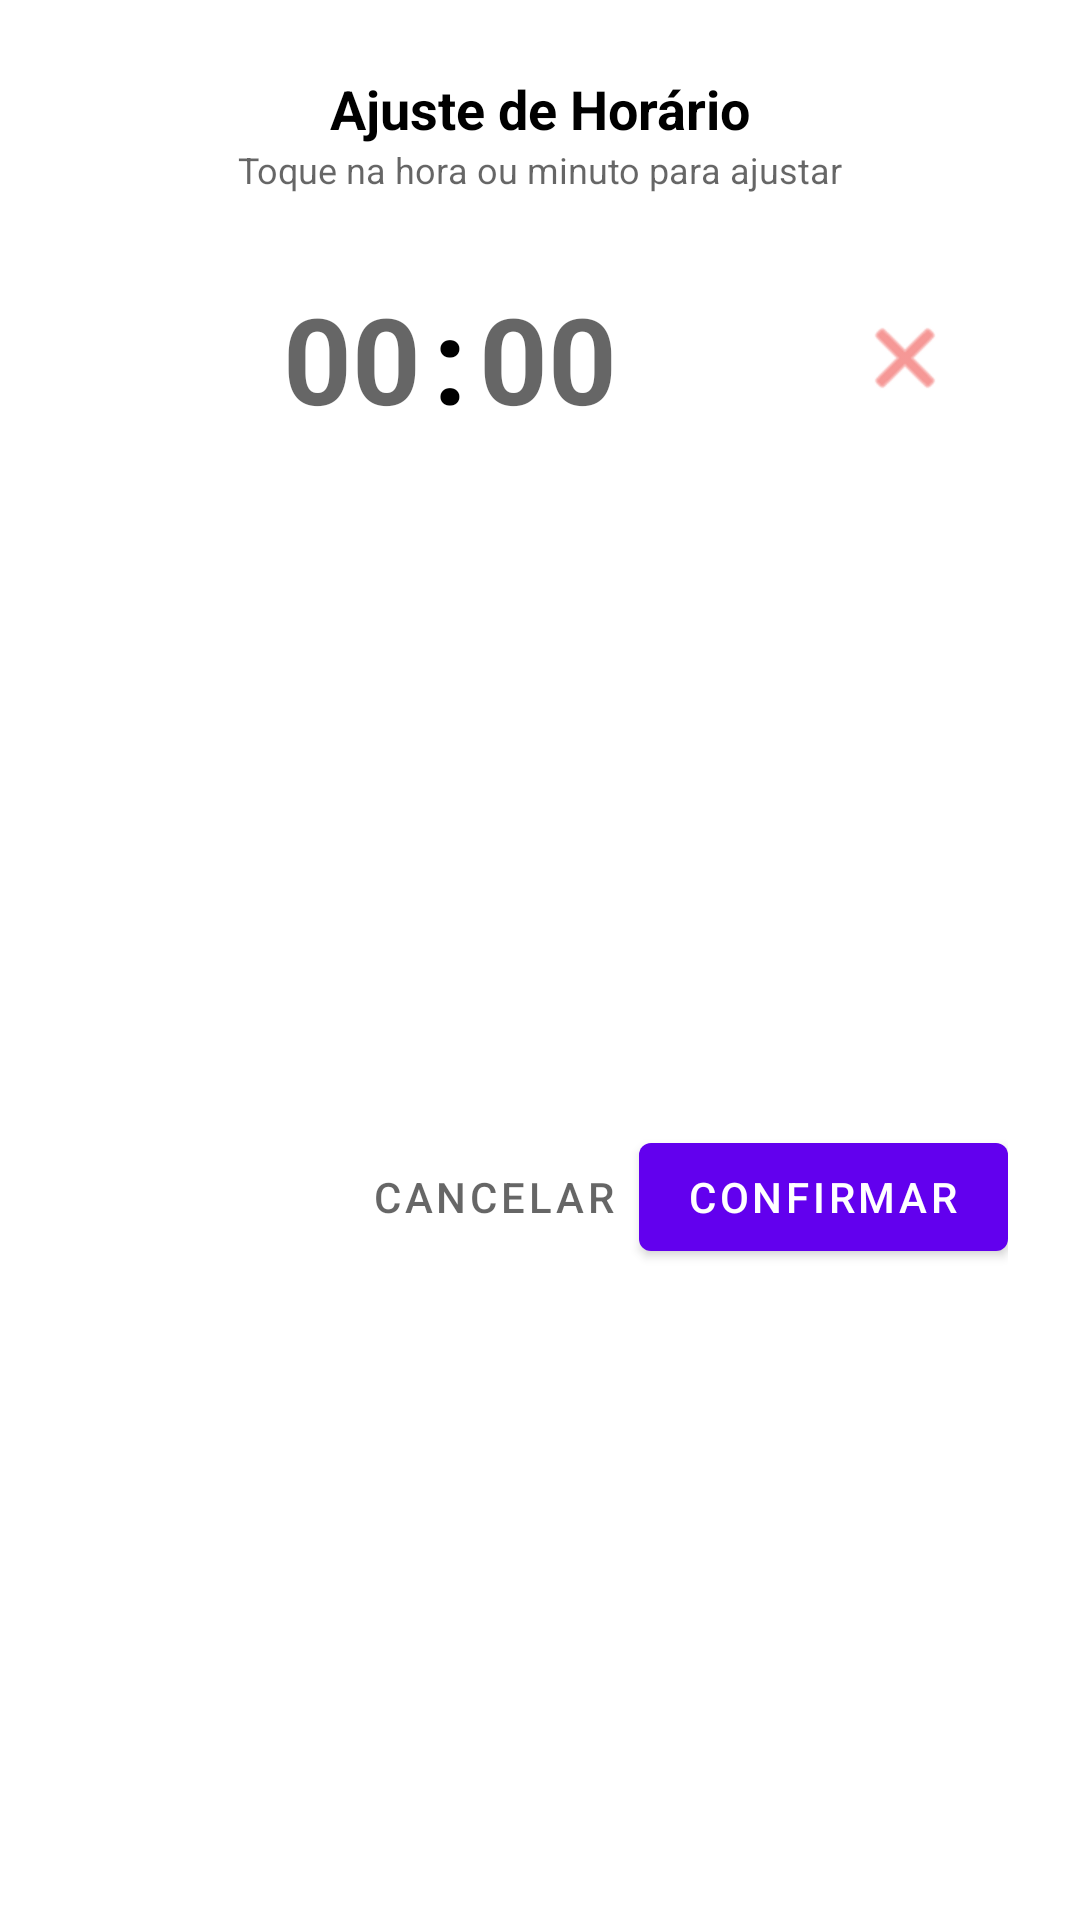

Screen size 1080×1920. Icon name, then its center in pixels as [x,y]:
Limpar horário: [905,358]
